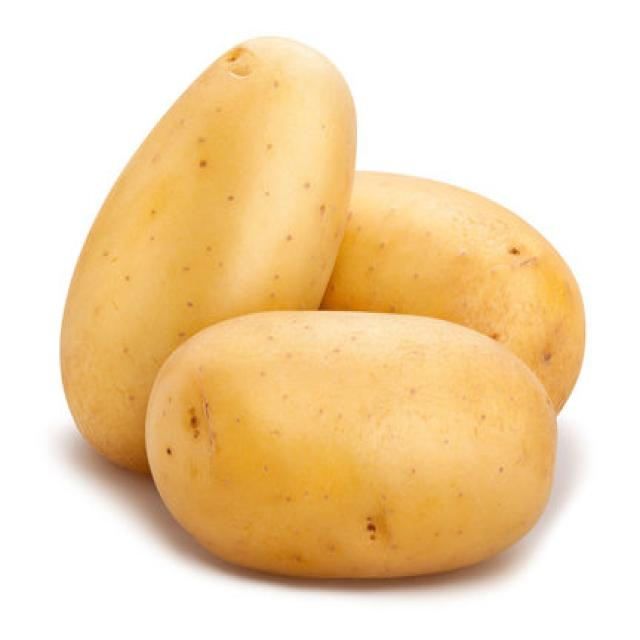Potato: (58, 32, 357, 473), (142, 308, 557, 580), (320, 167, 585, 416)
